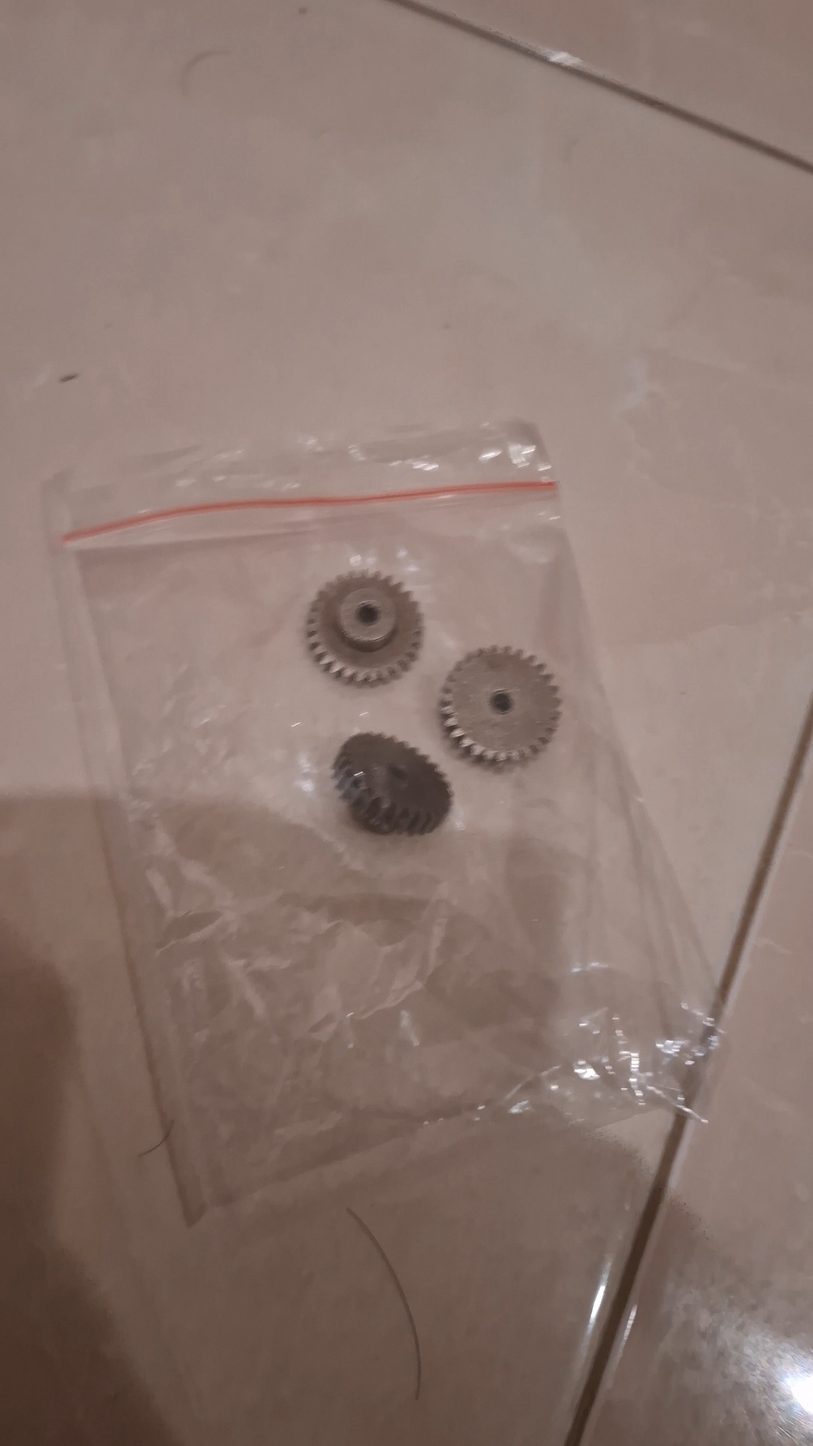spur gear: (435, 645, 565, 770), (302, 569, 426, 685), (329, 731, 453, 836)
